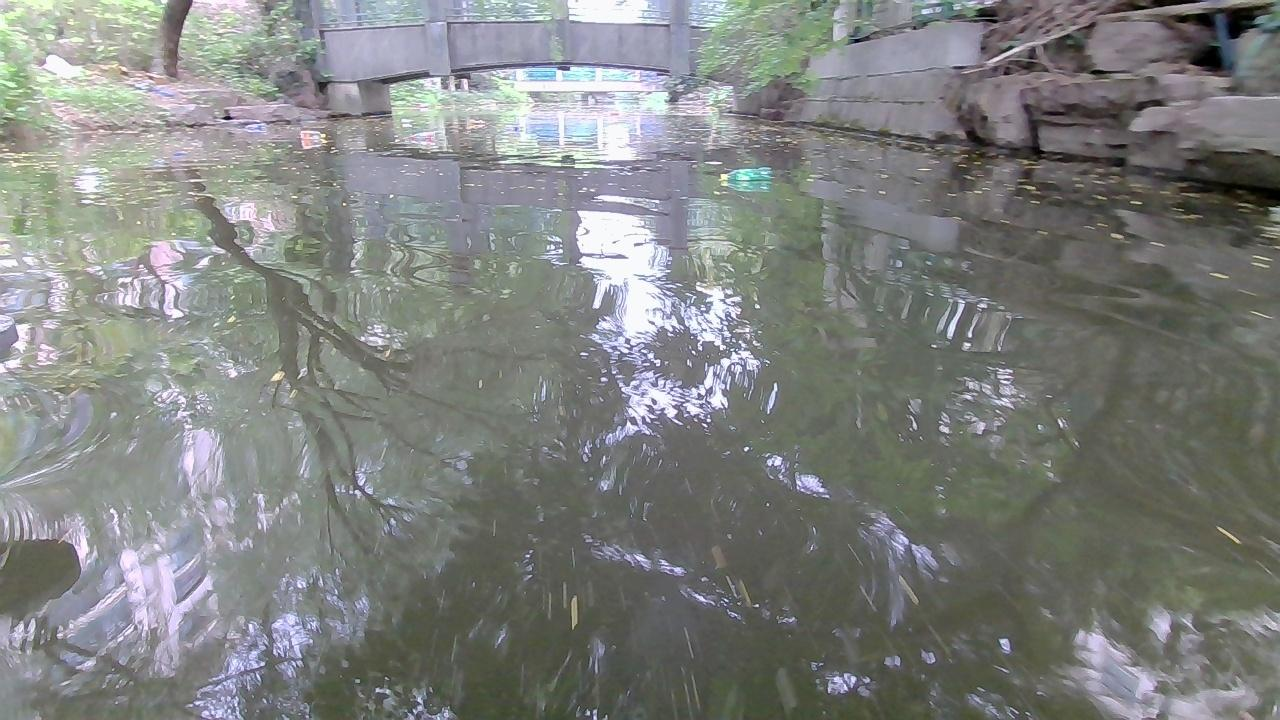bottle: (716, 163, 770, 183), (299, 130, 330, 142), (407, 129, 434, 138), (239, 122, 266, 129), (398, 116, 416, 125), (503, 124, 526, 131), (466, 116, 484, 124)
